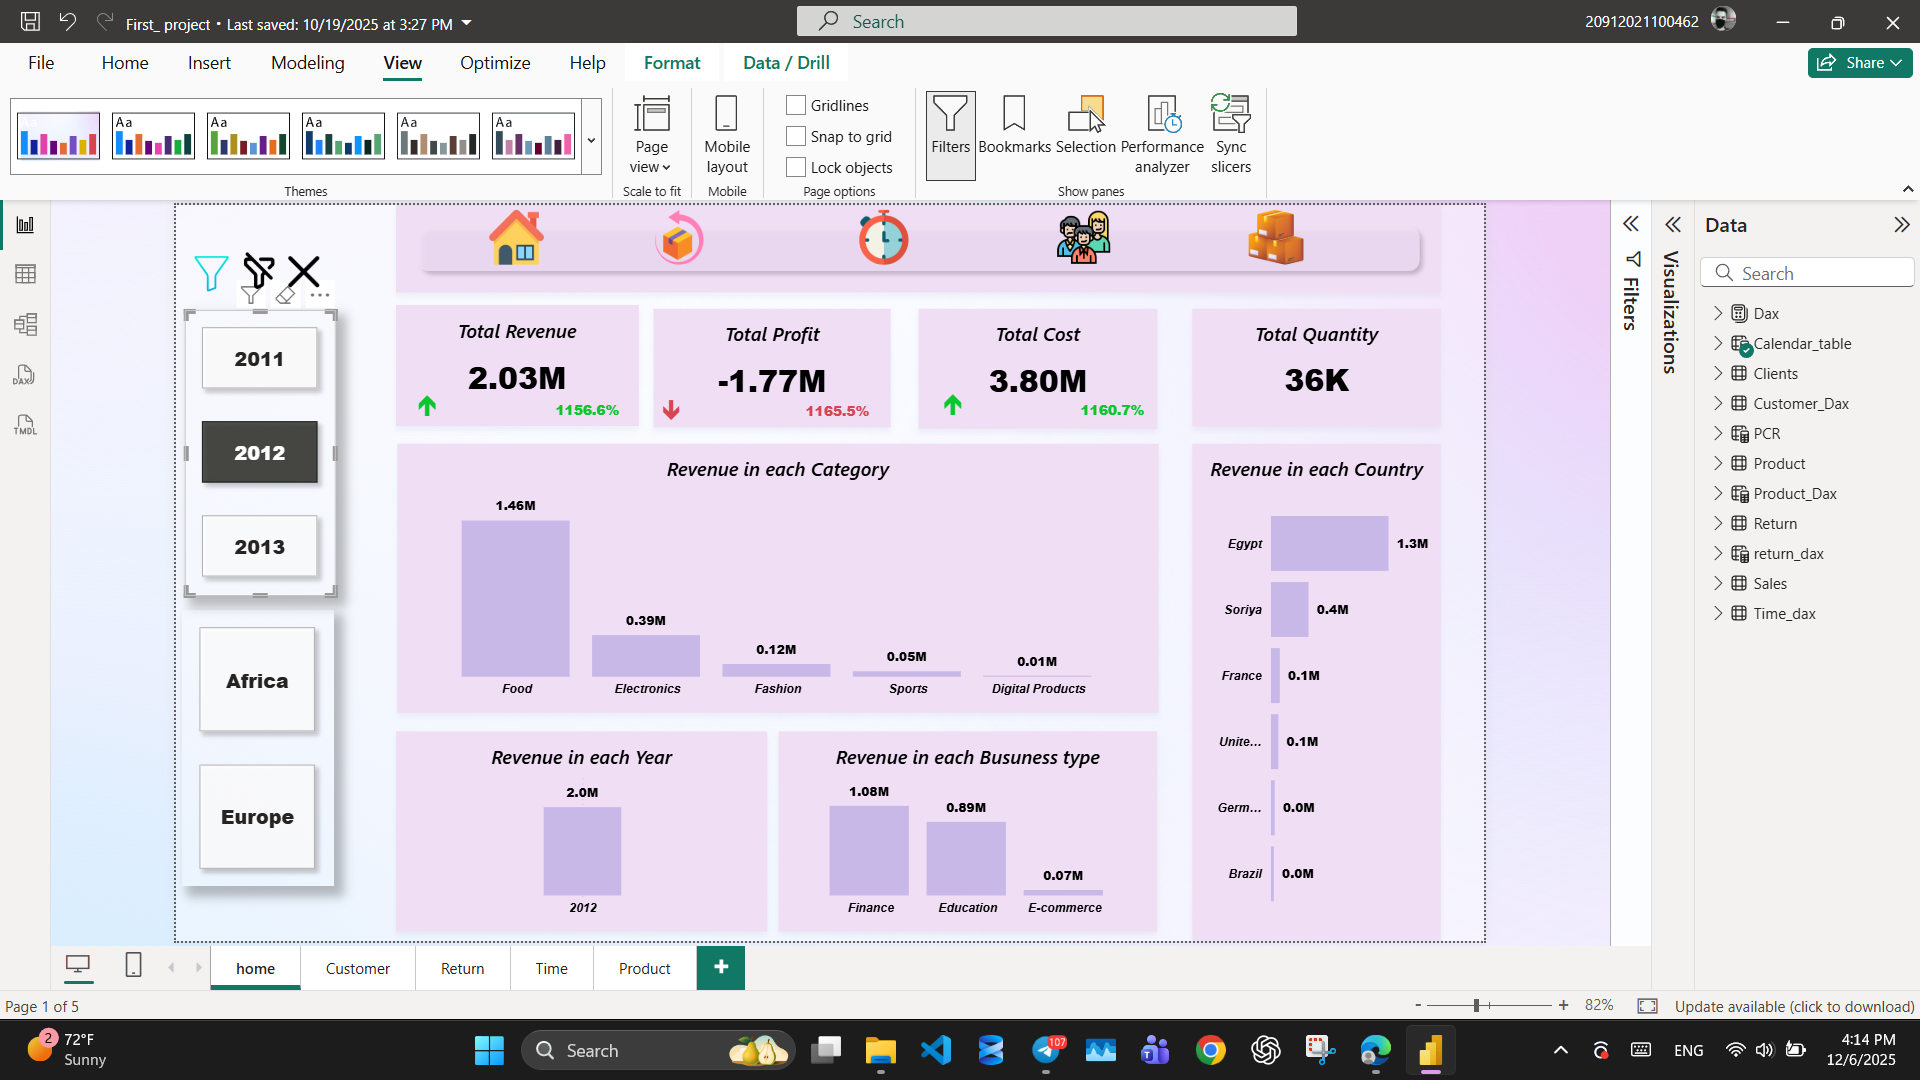

This screenshot's page, from the dashboard's own definition file:
{"tool":"powerbi","page":{"name":"home","canvas":[1280,720],"ordinal":0},"visuals":[{"type":"advancedSlicerVisual","fields":{"Values":["Calendar_table.year"]},"box":[8.6,102.7,148,280],"z":2000},{"type":"advancedSlicerVisual","fields":{"Values":["Clients.Continent"]},"box":[6.1,396.2,148,270.2],"z":3000},{"type":"shape","box":[215.2,0,1022.3,85.6],"z":4000},{"type":"image","box":[95.4,45.2,58.7,40.4],"z":5000},{"type":"image","box":[50.1,41.6,62.4,50.1],"z":6000},{"type":"image","box":[0,45.2,69.7,44],"z":7000},{"type":"image","box":[275.6,0,116.7,63.3],"z":8000},{"type":"image","box":[815.6,0,145.5,63.6],"z":9000},{"type":"image","box":[624.4,0,135.3,63.3],"z":10000},{"type":"image","box":[430.4,0,124.7,63.6],"z":11000},{"type":"image","box":[1015.4,0,122.9,63.3],"z":12000},{"type":"card","title":"Total Revenue","fields":{"Values":["Dax.total _revenue"]},"box":[215.2,97.8,237.2,118.6],"z":13000},{"type":"card","title":"Total Revenue","fields":{"Values":["Dax.Show_Variance_revenue"]},"box":[357.1,177.3,90.5,50.1],"z":14000},{"type":"card","title":"Total Revenue","fields":{"Values":["Dax.Arrow_revenue"]},"box":[214,165.1,63.6,63.6],"z":15000},{"type":"card","title":"Total Profit","fields":{"Values":["Dax.total_profit"]},"box":[467.1,101.5,232.3,116.2],"z":16000},{"type":"card","title":"Total Revenue","fields":{"Values":["Dax.Show_Variance_profit"]},"box":[601.6,178.5,90.5,50.1],"z":17000},{"type":"card","title":"Total Revenue","fields":{"Values":["Dax.Arrow_profit"]},"box":[452.4,170,63.6,63.6],"z":18000},{"type":"card","title":"Total Cost","fields":{"Values":["Dax.total_cost"]},"box":[726.4,101.5,233.6,117.4],"z":19000},{"type":"card","title":"Total Revenue","fields":{"Values":["Dax.Show_Variance_cost"]},"box":[870.7,177.3,90.5,50.1],"z":20000},{"type":"card","title":"Total Revenue","fields":{"Values":["Dax.Arrow_cost"]},"box":[725.1,171.2,69.7,50.1],"z":21000},{"type":"card","title":"Total Quantity","fields":{"Values":["Dax.total_qty"]},"box":[994.2,101.5,243.3,114.9],"z":22000},{"type":"clusteredColumnChart","title":"Revenue in each Category","fields":{"Category":["Product.CategoryName"],"Y":["Dax.total _revenue"]},"box":[216.4,233.6,744.7,262.9],"z":23000},{"type":"clusteredBarChart","title":"Revenue in each Country","fields":{"Category":["Clients.CountryName"],"Y":["Dax.total _revenue"]},"box":[994.2,233.6,243.3,486.7],"z":24000},{"type":"clusteredColumnChart","title":"Revenue in each Year","fields":{"Y":["Dax.total _revenue"],"Category":["Calendar_table.year"]},"box":[215.2,514.8,363.2,195.7],"z":25000},{"type":"clusteredColumnChart","title":"Revenue in each Busuness type","fields":{"Category":["Clients.BusinessType"],"Y":["Dax.total _revenue"]},"box":[589.4,514.8,370.5,195.7],"z":26000}]}

Visuals, with their boxes on the page's 1280x720 design canvas (x1, y1, x2, y2). These are canvas units, not pixel positions in the 1920x1080 screenshot, which may show the page scaled, cropped or inside an application window:
advancedSlicerVisual - Calendar_table.year: [left=9, top=103, right=157, bottom=383]
advancedSlicerVisual - Clients.Continent: [left=6, top=396, right=154, bottom=666]
shape: [left=215, top=0, right=1238, bottom=86]
image: [left=95, top=45, right=154, bottom=86]
image: [left=50, top=42, right=112, bottom=92]
image: [left=0, top=45, right=70, bottom=89]
image: [left=276, top=0, right=392, bottom=63]
image: [left=816, top=0, right=961, bottom=64]
image: [left=624, top=0, right=760, bottom=63]
image: [left=430, top=0, right=555, bottom=64]
image: [left=1015, top=0, right=1138, bottom=63]
"Total Revenue" card: [left=215, top=98, right=452, bottom=216]
"Total Revenue" card: [left=357, top=177, right=448, bottom=227]
"Total Revenue" card: [left=214, top=165, right=278, bottom=229]
"Total Profit" card: [left=467, top=102, right=699, bottom=218]
"Total Revenue" card: [left=602, top=178, right=692, bottom=229]
"Total Revenue" card: [left=452, top=170, right=516, bottom=234]
"Total Cost" card: [left=726, top=102, right=960, bottom=219]
"Total Revenue" card: [left=871, top=177, right=961, bottom=227]
"Total Revenue" card: [left=725, top=171, right=795, bottom=221]
"Total Quantity" card: [left=994, top=102, right=1238, bottom=216]
"Revenue in each Category" clusteredColumnChart: [left=216, top=234, right=961, bottom=496]
"Revenue in each Country" clusteredBarChart: [left=994, top=234, right=1238, bottom=720]
"Revenue in each Year" clusteredColumnChart: [left=215, top=515, right=578, bottom=710]
"Revenue in each Busuness type" clusteredColumnChart: [left=589, top=515, right=960, bottom=710]
